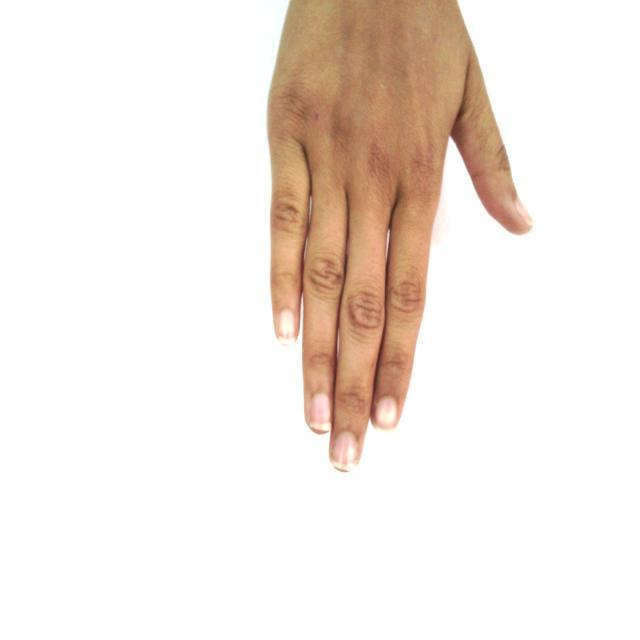Fingernail: (332, 432, 357, 471), (310, 394, 332, 431), (376, 396, 398, 433), (280, 310, 297, 345), (516, 198, 533, 225)
